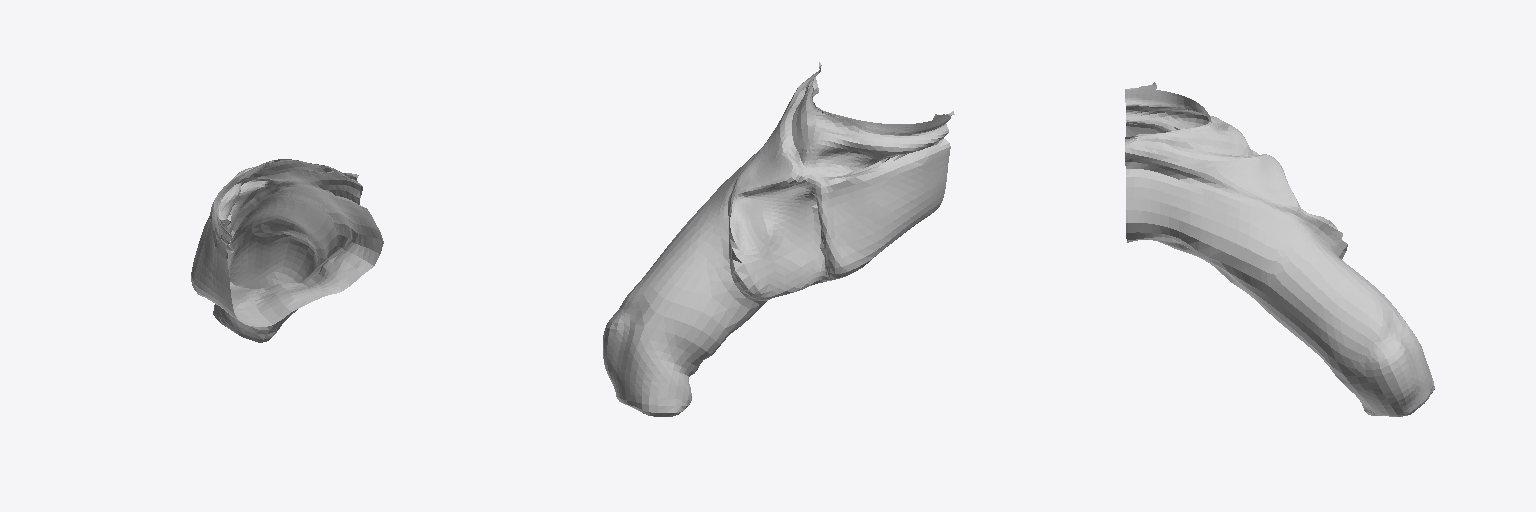
The model's file is jambe_gauche_totale.obj.
3 renders of one model, left to right at view 1: azimuth 30°, elevation 25°; view 2: azimuth 150°, elevation 25°; view 3: azimuth 270°, elevation 25°, orthographic.
Parts seen in each view (by area): view 1: 15548_French_Horseman_v1.012_15548_French_Horseman_v1.030; view 2: 15548_French_Horseman_v1.012_15548_French_Horseman_v1.030; view 3: 15548_French_Horseman_v1.012_15548_French_Horseman_v1.030.
Part boxes in pixels (x1,y1,x2,y2): 15548_French_Horseman_v1.012_15548_French_Horseman_v1.030: (191,159,383,342); 15548_French_Horseman_v1.012_15548_French_Horseman_v1.030: (603,62,954,416); 15548_French_Horseman_v1.012_15548_French_Horseman_v1.030: (1125,82,1434,416).
Bounding box in the file's own units: 1.9 × 2.18 × 2.33.